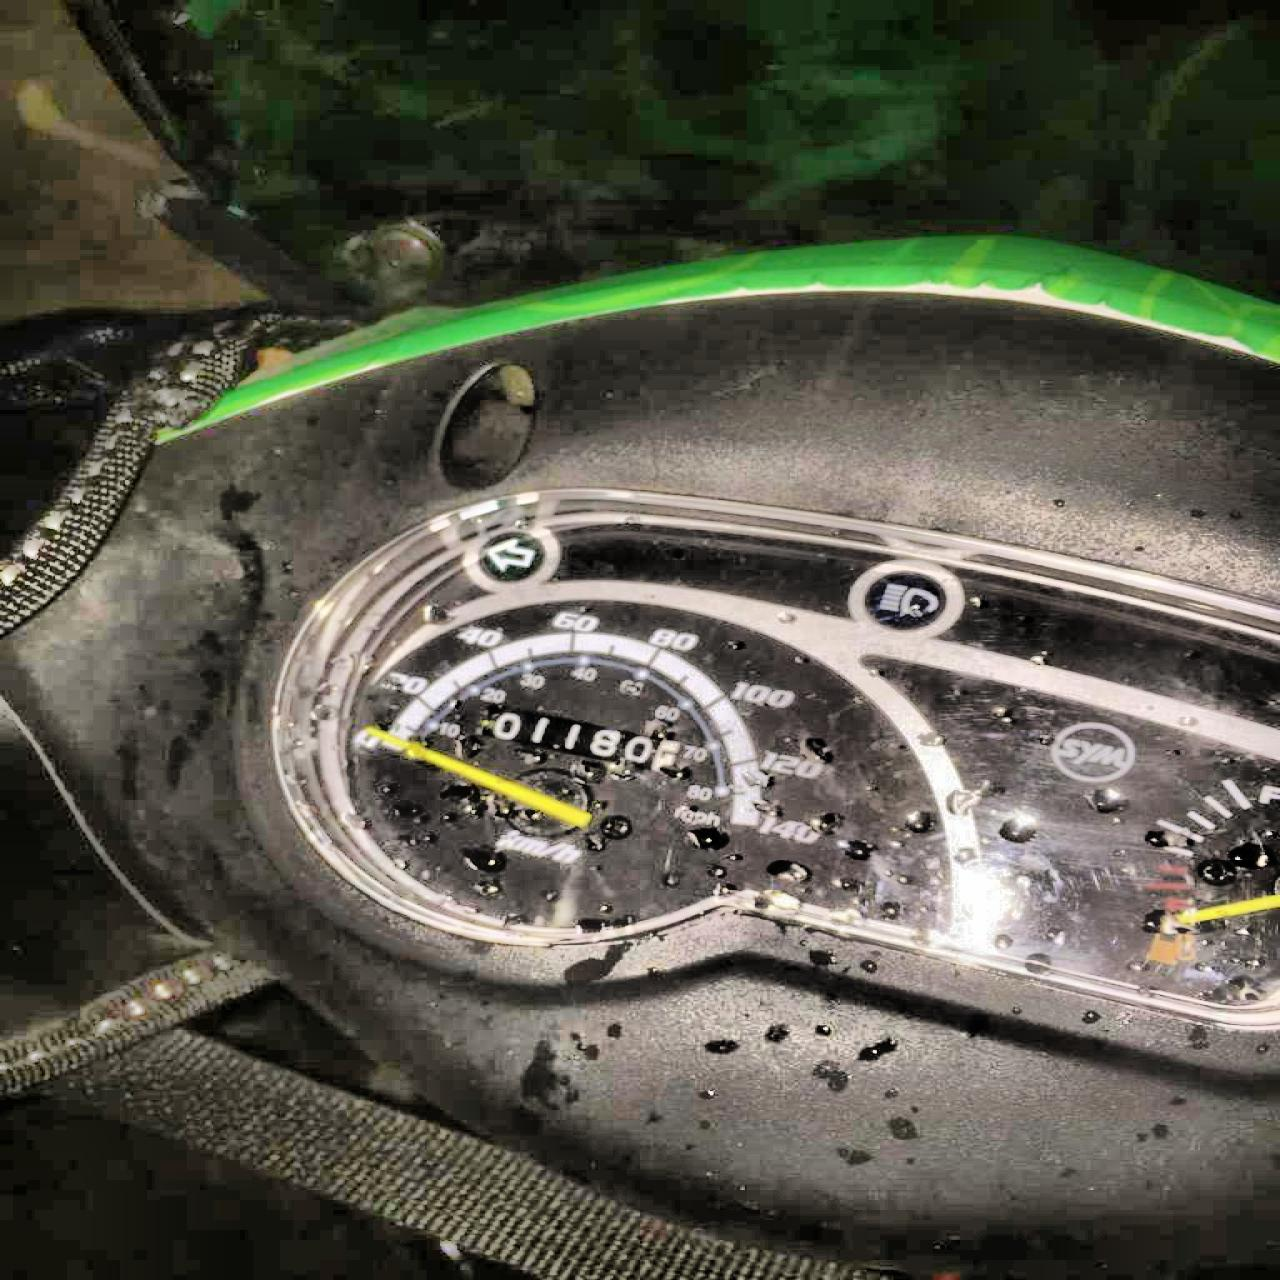0: (489, 710, 524, 736), (621, 733, 651, 762), (667, 708, 680, 720)
1: (558, 719, 580, 751), (530, 713, 550, 745)
6: (653, 704, 665, 720)
7: (656, 738, 679, 771)
8: (587, 724, 620, 757)
odometer: (478, 704, 682, 775)
